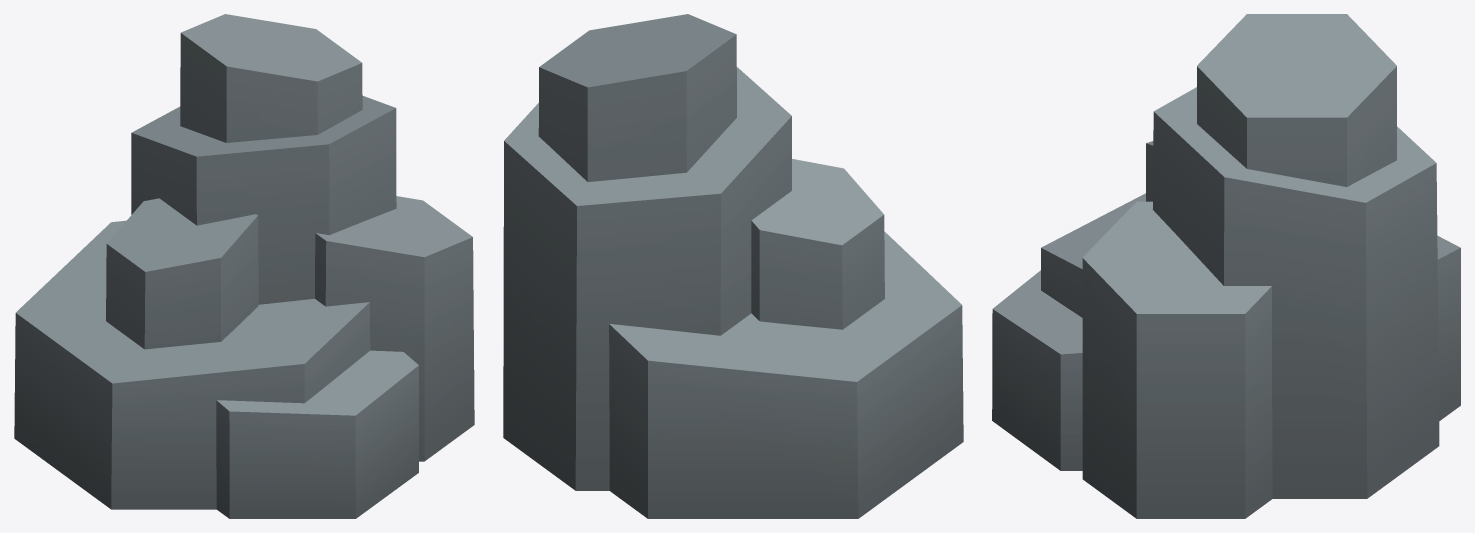
File: mountain-b.glb
3 views of the same model, side by side, from view 1: azimuth 30°, elevation 25°; view 2: azimuth 150°, elevation 25°; view 3: azimuth 270°, elevation 25° (orthographic). The views are drawn at different scales.
Parts seen in each view (by area): view 1: mountain_B; view 2: mountain_B; view 3: mountain_B.
Part boxes in pixels (bbox=[...]): mountain_B: bbox=[14, 14, 474, 518]; mountain_B: bbox=[503, 14, 963, 518]; mountain_B: bbox=[992, 14, 1460, 518].
Size of the model in its own units: 1.8 by 1.77 by 1.88.
Materials: 1 (1 with a texture image).
